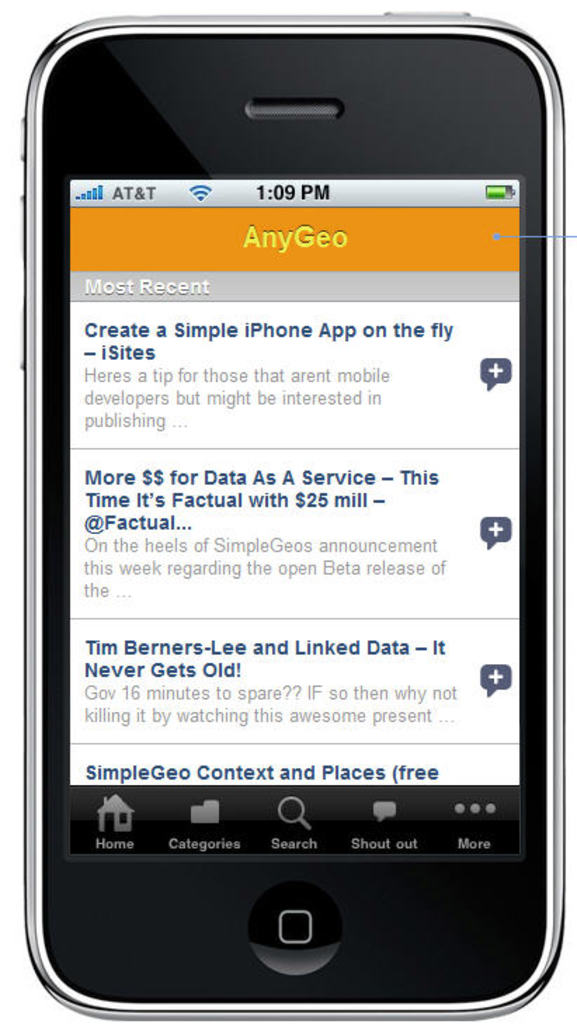mobile phone: (14, 8, 569, 1009)
